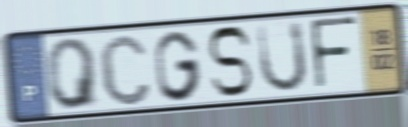C: (96, 31, 154, 109)
F: (307, 14, 360, 93)
G: (152, 28, 204, 104)
Q: (43, 35, 102, 112)
S: (205, 24, 254, 100)
U: (255, 18, 310, 96)
